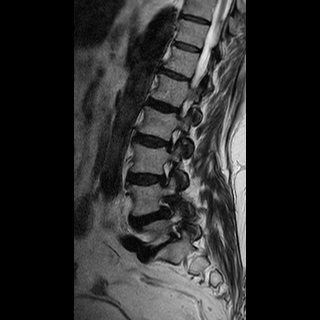LFS1: (151, 156, 180, 191), (155, 124, 186, 156)
